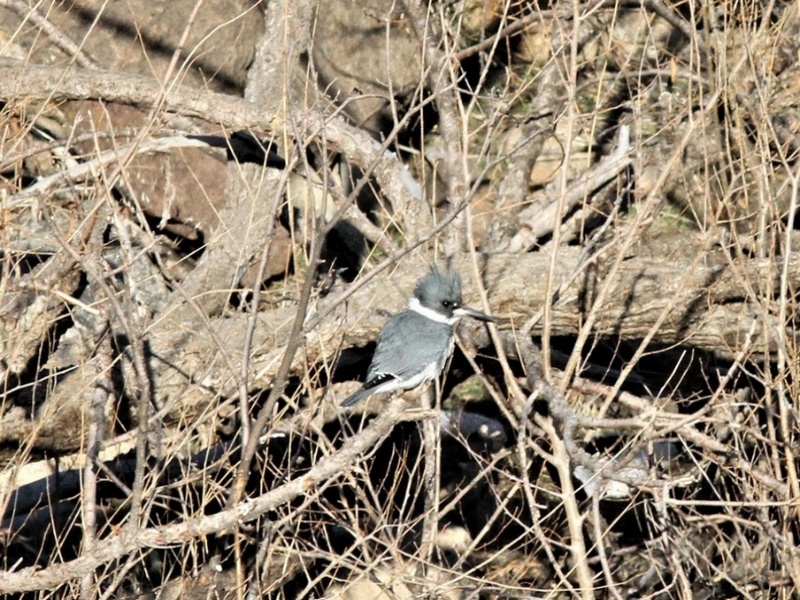kingfisher: (341, 259, 497, 408)
